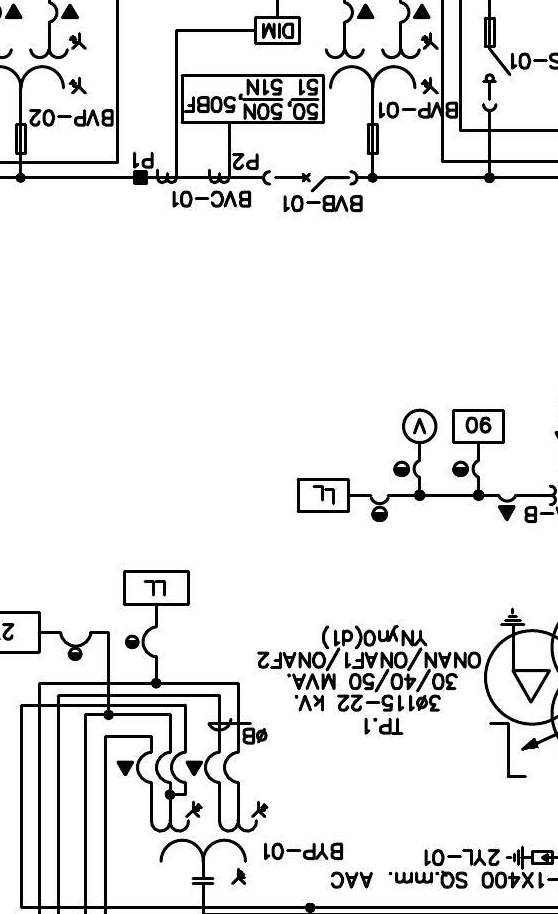115_cvt_3p: (149, 800, 269, 885)
115_la: (505, 845, 554, 871)
22_breaker: (262, 169, 359, 193)
22_vt_3p: (324, 0, 440, 156)
DIM: (254, 16, 301, 45)
LL: (123, 570, 190, 606), (297, 477, 350, 513)
v_m: (401, 407, 438, 445)
